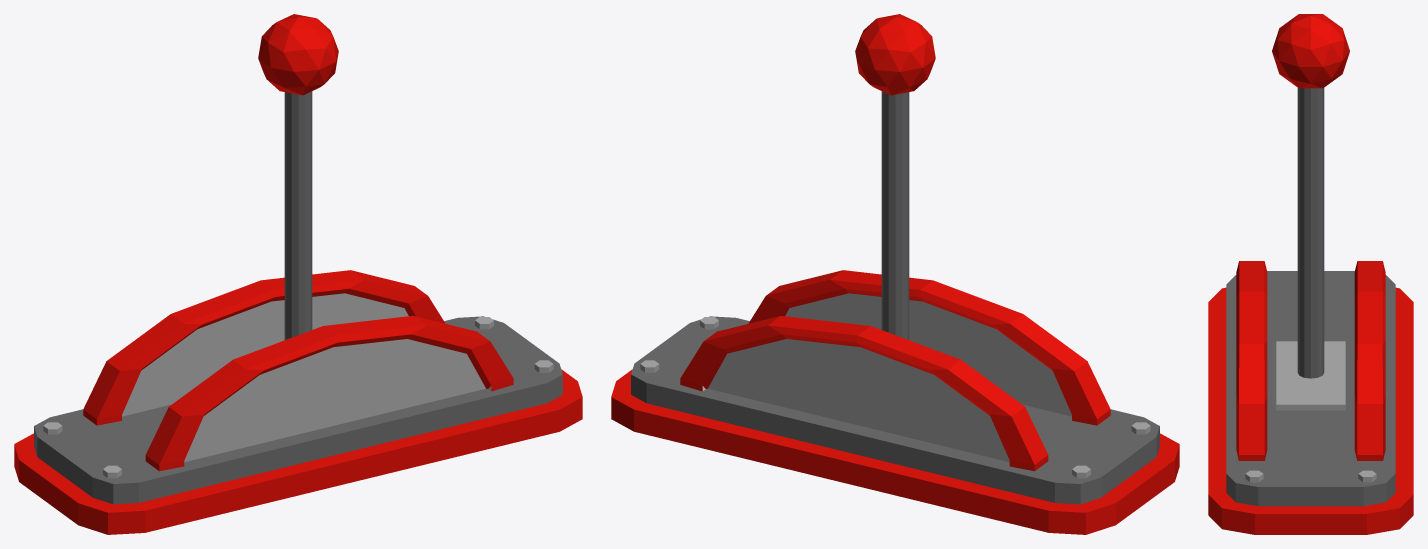
The model's file is Lever.fbx.
The picture shows the model from 3 angles, left to right: view 1: azimuth 30°, elevation 25°; view 2: azimuth 150°, elevation 25°; view 3: azimuth 270°, elevation 25°; orthographic projection. The views are drawn at different scales.
Visible parts, largest first — view 1: LeverBase, LeverHandle; view 2: LeverBase, LeverHandle; view 3: LeverBase, LeverHandle.
Part boxes in pixels (x1,y1,x2,y2): LeverBase: (14,270,582,534); LeverHandle: (258,14,338,339); LeverBase: (611,270,1179,534); LeverHandle: (855,14,935,339); LeverBase: (1208,261,1413,534); LeverHandle: (1272,14,1349,378).
Size of the model in its own units: 291 by 236 by 109.
